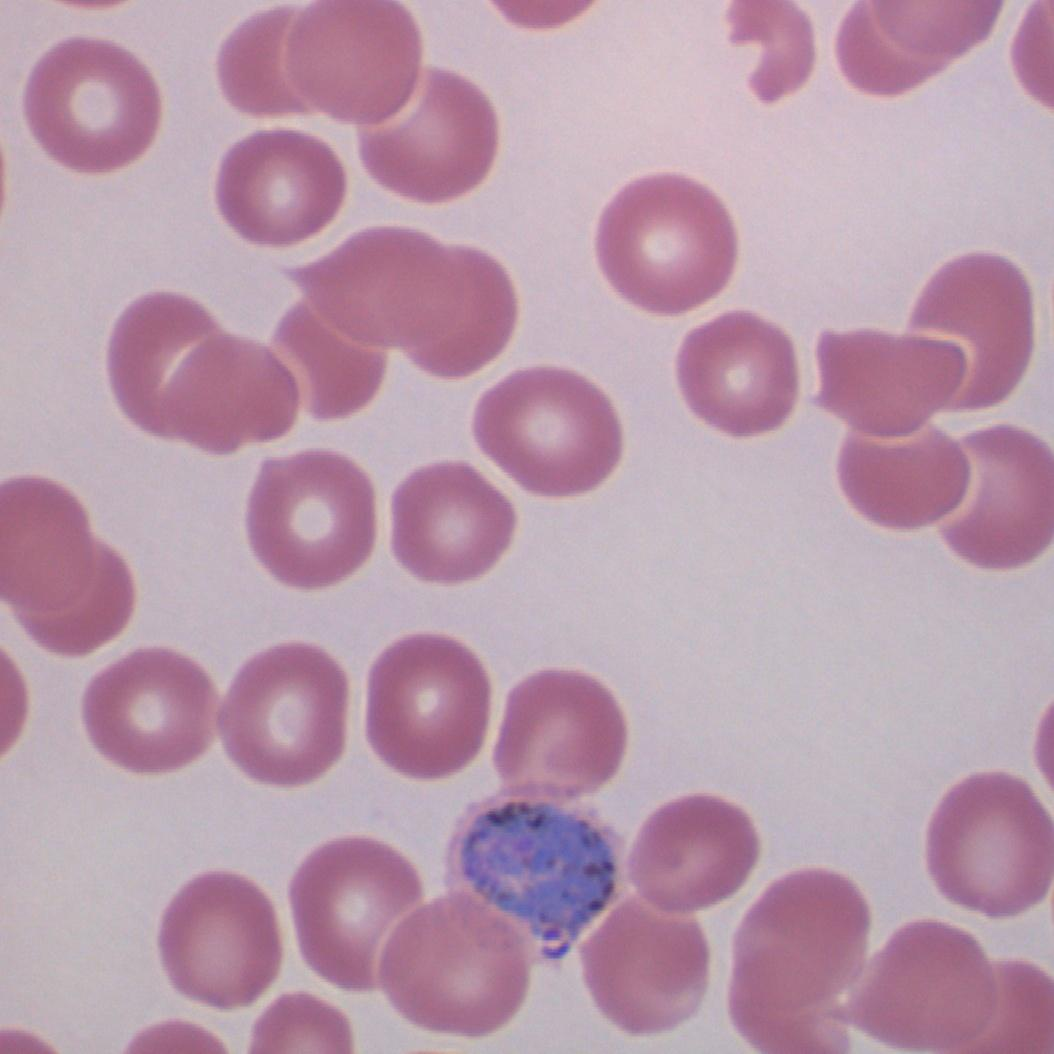Infected: (444, 780, 632, 966)
Uninfected: (288, 840, 426, 991), (596, 172, 740, 315), (848, 922, 1004, 1054), (382, 896, 530, 1034), (288, 228, 466, 342), (902, 252, 1031, 409), (472, 364, 623, 497), (108, 288, 236, 441), (218, 640, 348, 790), (144, 332, 304, 452), (362, 630, 488, 780), (24, 34, 160, 171), (928, 772, 1054, 919), (156, 868, 285, 1010), (246, 450, 378, 588), (80, 646, 220, 774), (360, 70, 496, 201), (282, 0, 423, 126), (928, 432, 1054, 569), (736, 868, 868, 998), (496, 668, 624, 801), (392, 244, 519, 377), (390, 458, 517, 587), (216, 128, 348, 246), (582, 908, 706, 1033), (632, 794, 760, 911), (838, 416, 967, 531), (678, 314, 794, 435)
